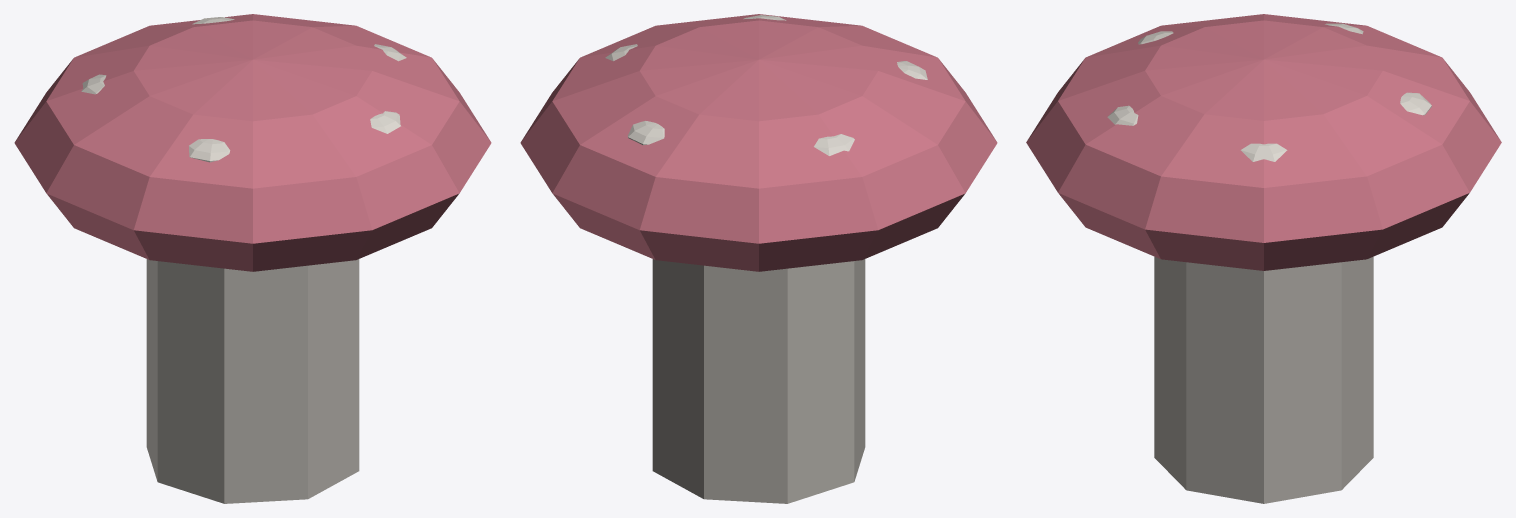
File: MushroomStool.fbx
The picture shows the model from 3 angles, left to right: view 1: azimuth 30°, elevation 25°; view 2: azimuth 150°, elevation 25°; view 3: azimuth 270°, elevation 25°; orthographic projection.
Parts seen in each view (by area): view 1: Prop_MushroomStool; view 2: Prop_MushroomStool; view 3: Prop_MushroomStool.
Boxes of the visible parts, x1=… form: Prop_MushroomStool: x1=14, y1=14, x2=491, y2=503; Prop_MushroomStool: x1=520, y1=14, x2=997, y2=503; Prop_MushroomStool: x1=1026, y1=14, x2=1501, y2=503.
Bounding box in the file's own units: 0.52 × 0.48 × 0.52.
